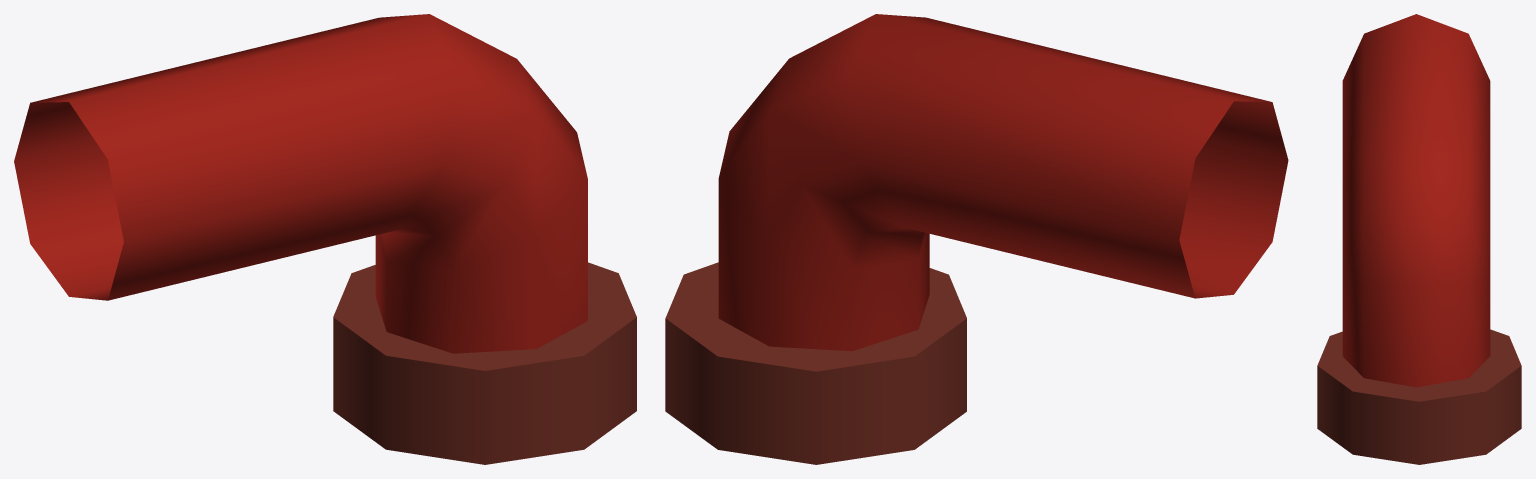
Rendered from Pipe_1_E_2_1.fbx.
The picture shows the model from 3 angles, left to right: view 1: azimuth 30°, elevation 25°; view 2: azimuth 150°, elevation 25°; view 3: azimuth 270°, elevation 25°; orthographic projection. The views are drawn at different scales.
Parts seen in each view (by area): view 1: Pipe_1_E_2_1; view 2: Pipe_1_E_2_1; view 3: Pipe_1_E_2_1.
Part boxes in pixels (x1,y1,x2,y2): Pipe_1_E_2_1: (14,14,636,464); Pipe_1_E_2_1: (665,14,1288,464); Pipe_1_E_2_1: (1317,14,1521,464).
Bounding box in the file's own units: 63.18 × 43.92 × 30.12.
